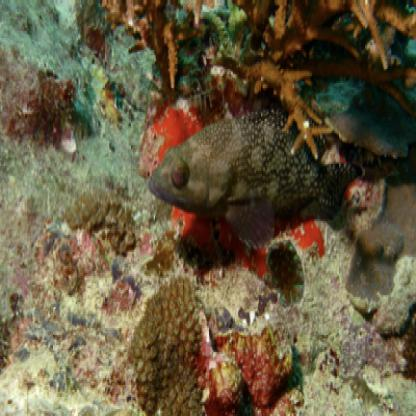Serranidae -Groupers-: (149, 106, 363, 253)
